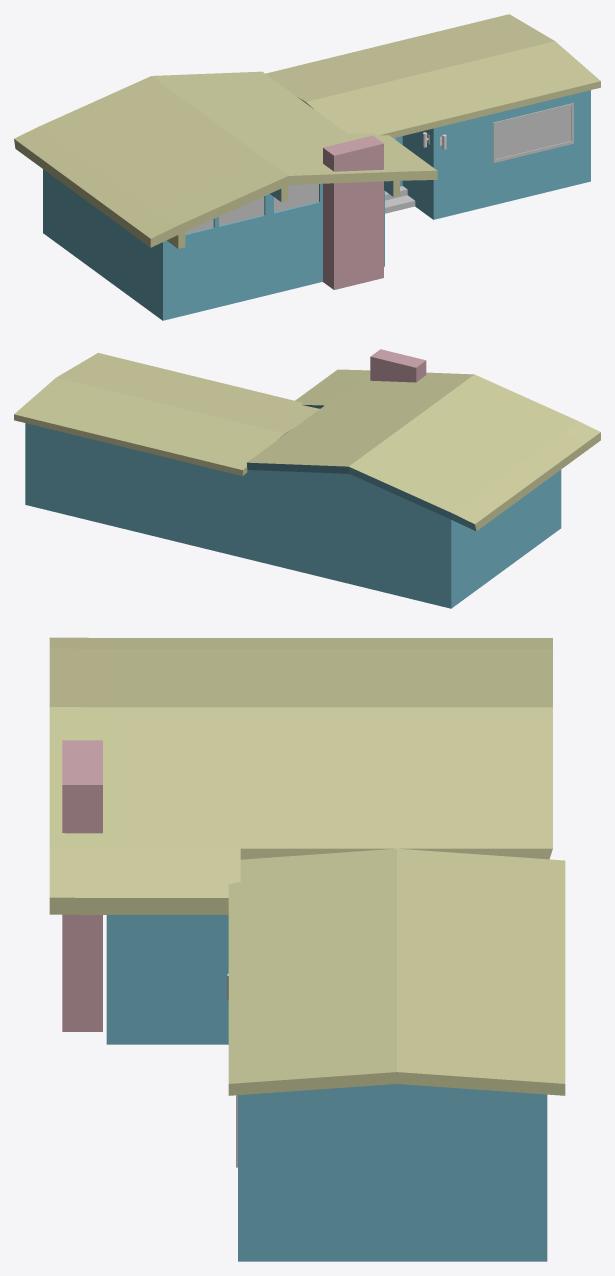
Rendered from House.fbx.
3 renders of one model, top to bottom at view 1: azimuth 30°, elevation 25°; view 2: azimuth 150°, elevation 25°; view 3: azimuth 270°, elevation 25°, orthographic. The views are drawn at different scales.
Parts seen in each view (by area): view 1: House, Chimney, House.003, House.002, Steps; view 2: House, Chimney; view 3: House, Chimney.
Part boxes in pixels (bbox=[...]): House: bbox=[14, 14, 600, 320]; Chimney: bbox=[323, 135, 383, 289]; House.003: bbox=[185, 107, 571, 234]; House.002: bbox=[493, 103, 573, 163]; Steps: bbox=[385, 186, 415, 213]; House: bbox=[14, 353, 600, 608]; Chimney: bbox=[370, 349, 426, 382]; House: bbox=[49, 637, 565, 1261]; Chimney: bbox=[62, 740, 102, 1031].
Size of the model in its own units: 1076 by 278 by 524.
